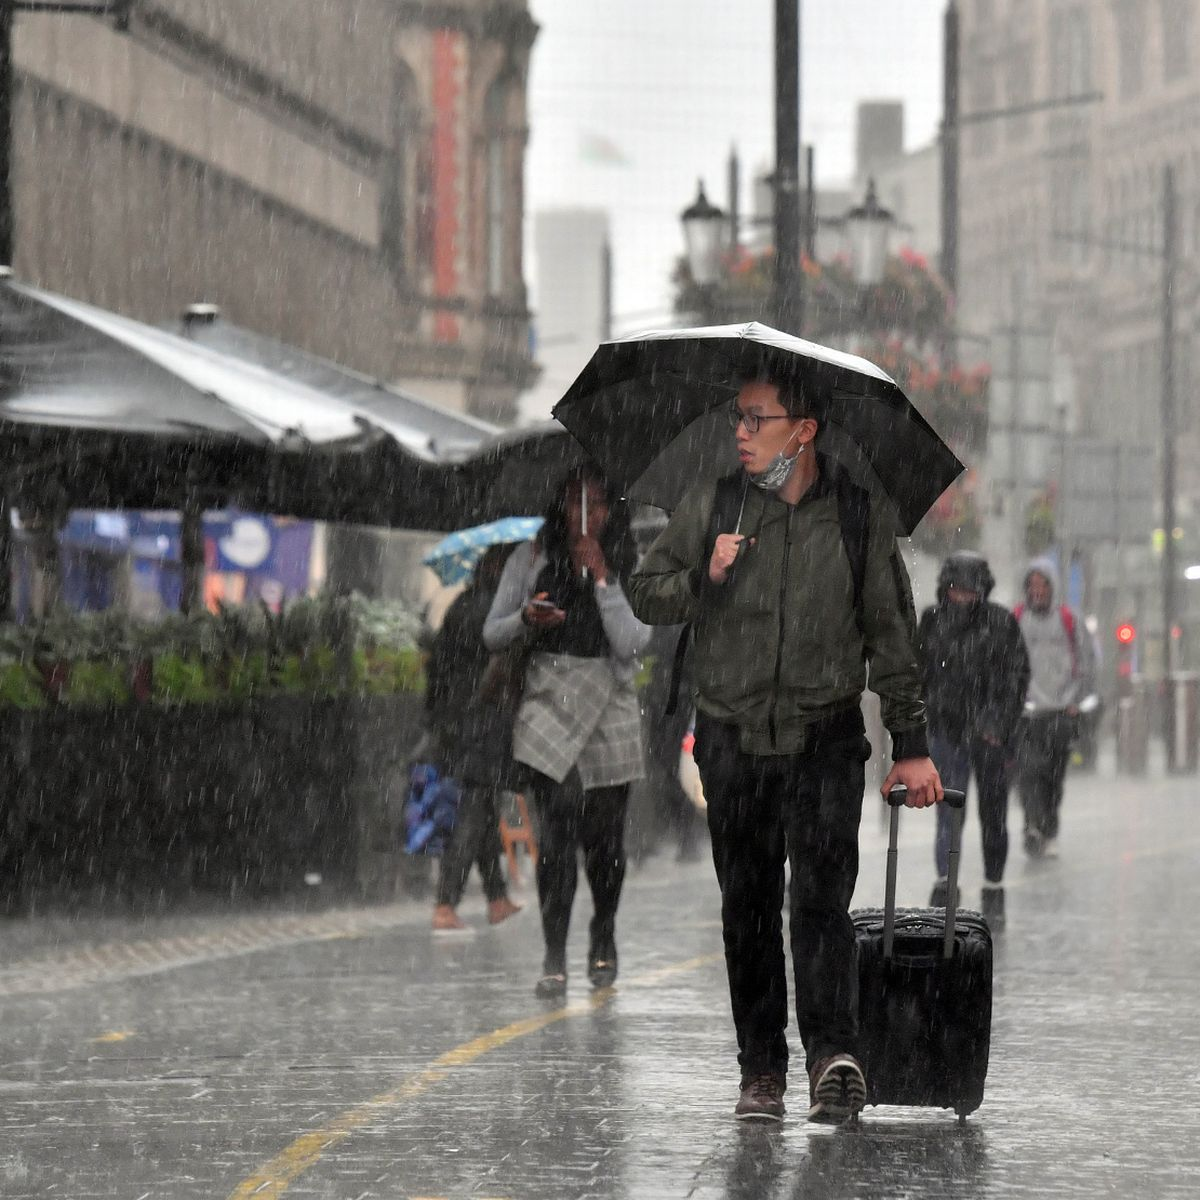person: (667, 362, 931, 1125), (486, 462, 648, 998)
